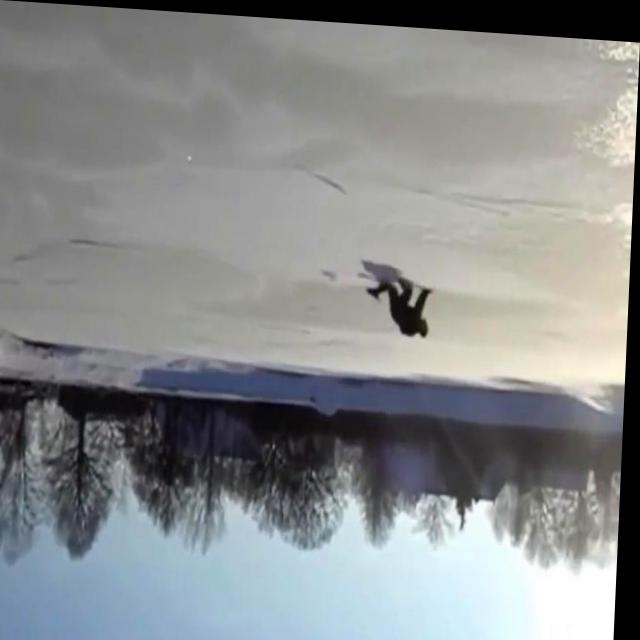fall: (367, 267, 434, 338)
